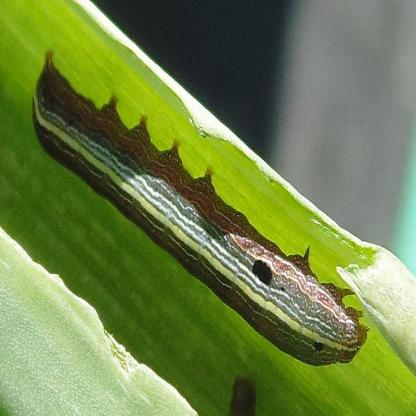armyworm: (14, 21, 386, 411)
